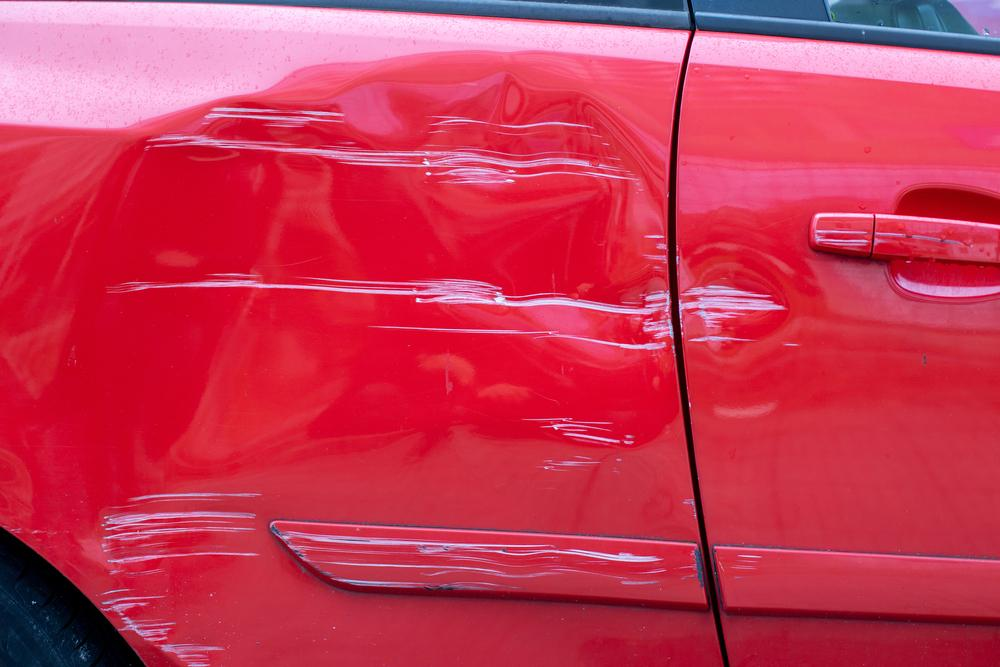dent: (58, 76, 681, 494), (681, 250, 794, 356)
scratch: (266, 519, 713, 593), (100, 476, 257, 667)
